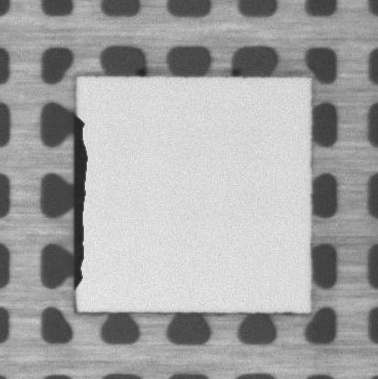DIE_BROKEN: (71, 113, 90, 293)
